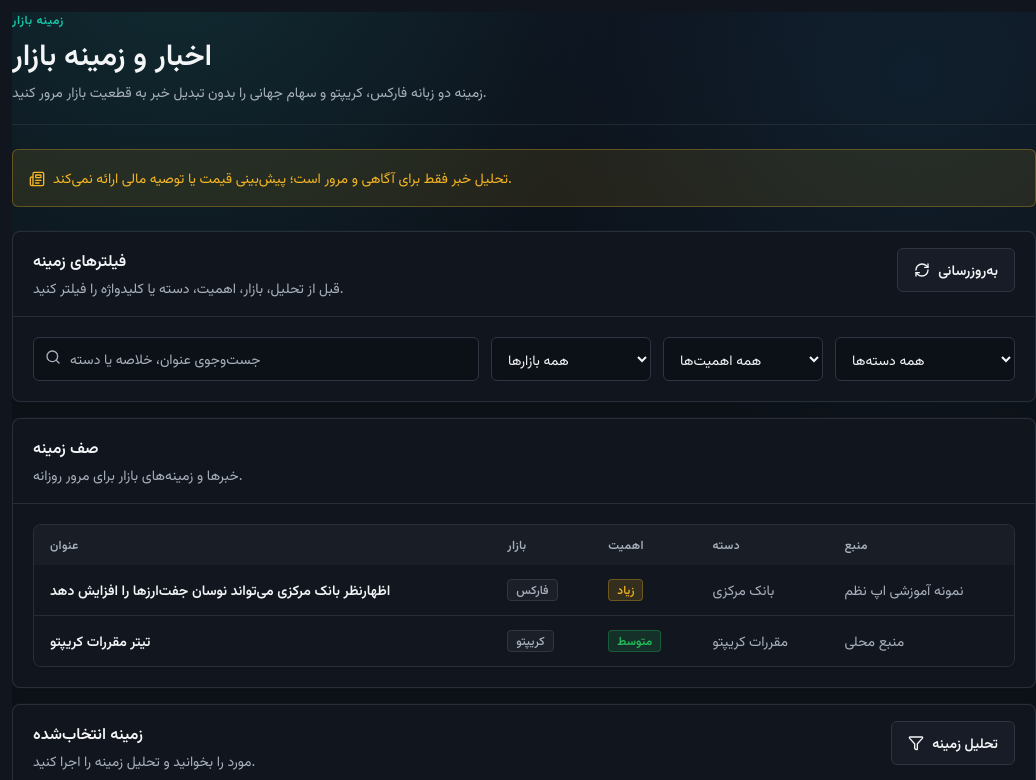
it: NewsScreen in Persian › has no English when the analysis fails
Expected: the table is shown, [34, 525, 1014, 666]
Click the button "تحلیل زمینه": point(953, 743) [891, 721, 1015, 765]
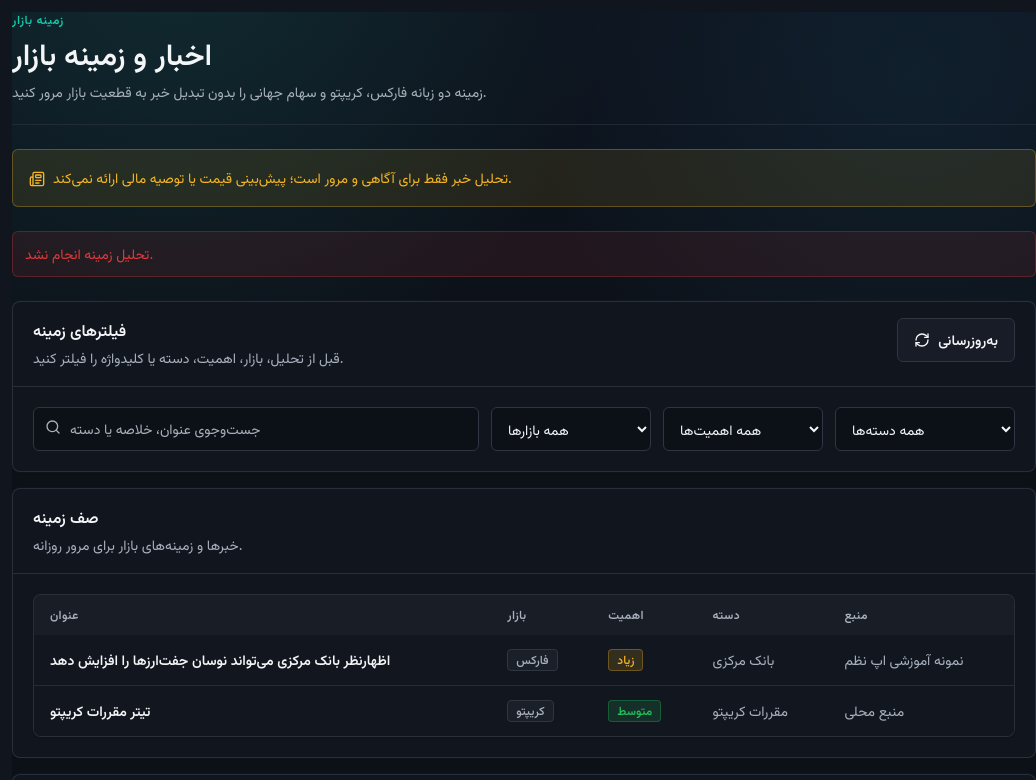
Now the message reads "تحلیل زمینه انجام نشد.", box [25, 244, 153, 263]
